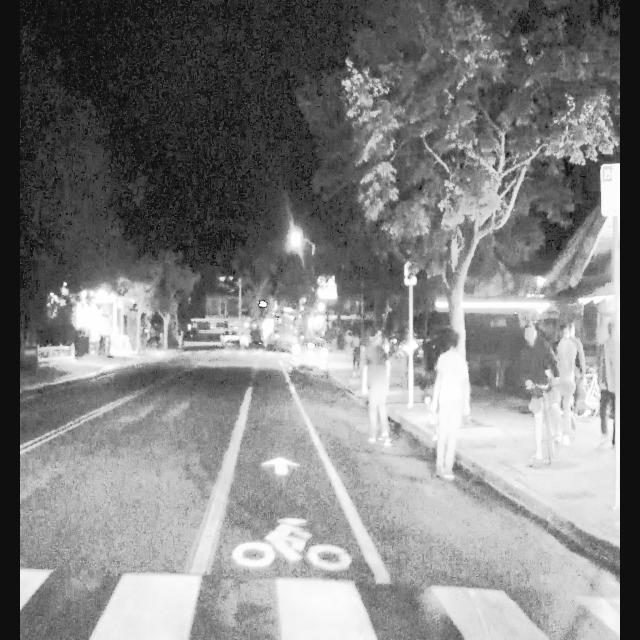Person: (430, 332, 470, 474), (518, 322, 554, 468), (359, 330, 398, 448)
Sign: (600, 164, 620, 215)
Tree: (433, 1, 487, 430)
